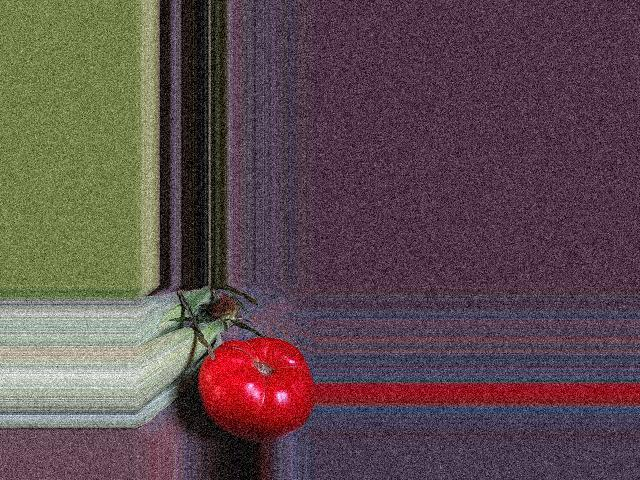tomato: (198, 337, 313, 442)
